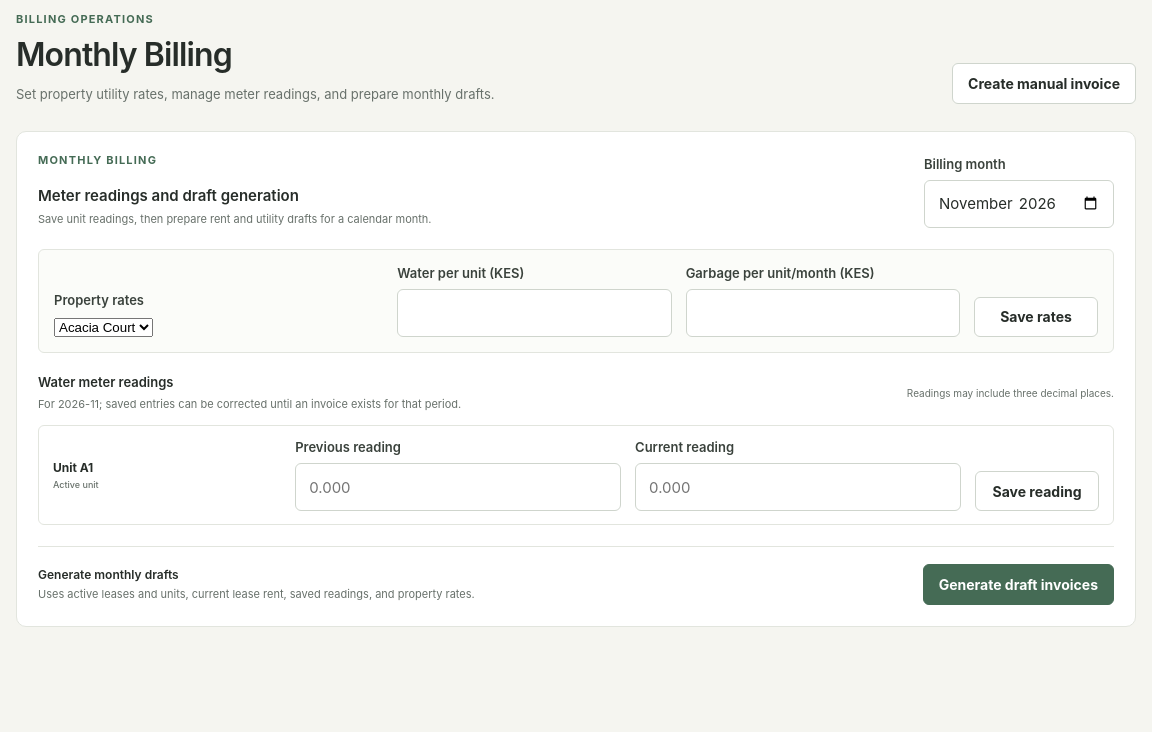
Test case: MonthlyBillingPage › explains that missing meter readings prevented invoice generation
This screenshot has width=1152, height=732.
Expected: the field labelled "Current reading" is shown, [635,463,961,511]
Click the button "Generate draft invoices" at (1018, 585), box [923,564,1114,605]
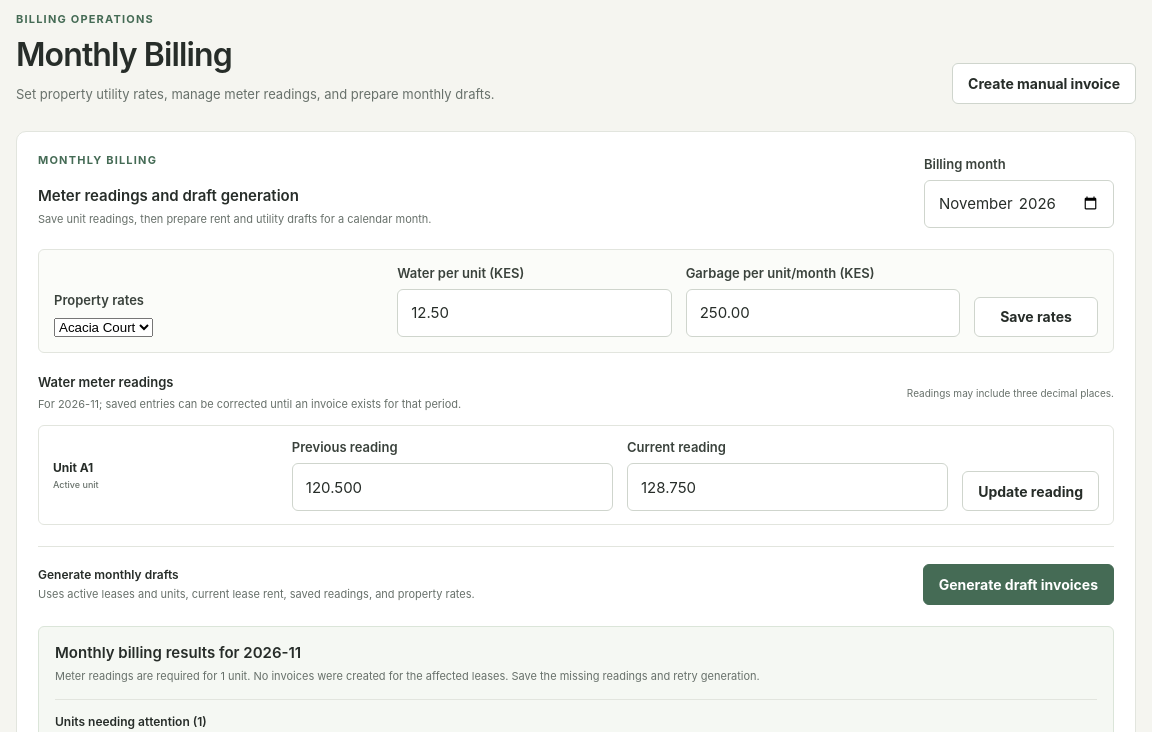
Expected: the text "Meter readings are required for 1 unit. No invoices were created for the affected leases. Save the missing readings and " is shown, [55,669,760,683]
